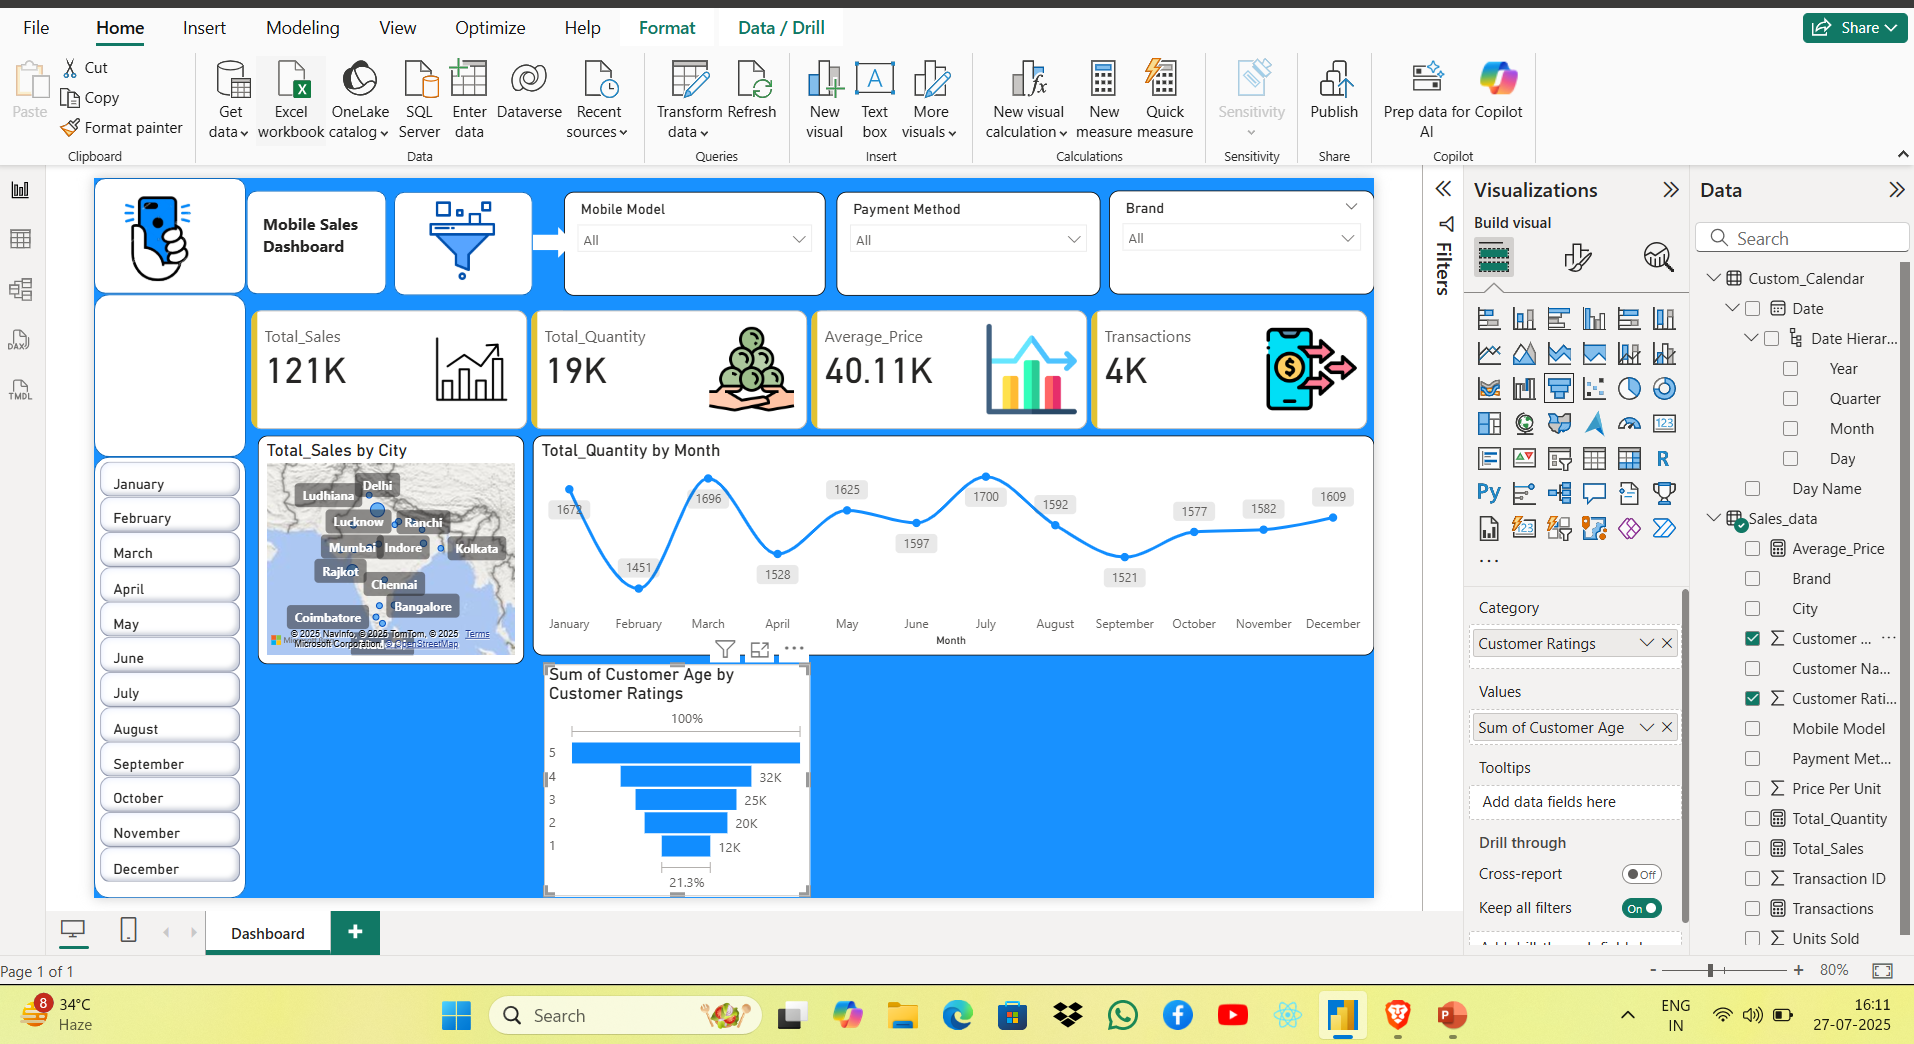

Layout of this report page (visuals, bound fields, positions):
{"tool":"powerbi","page":{"name":"Dashboard","canvas":[1280,720],"ordinal":0},"visuals":[{"type":"shape","box":[0,0,142.4,108.6],"z":0},{"type":"image","box":[0,0,127.9,127.9],"z":1000},{"type":"shape","box":[0,115.8,152,162.9],"z":2000},{"type":"shape","box":[0,278.7,152,441.6],"z":3000},{"type":"advancedSlicerVisual","fields":{"Values":["Custom_Calendar.Date.Variation.Date Hierarchy.Month"]},"box":[1.2,278.7,150.8,441.6],"z":4000},{"type":"cardVisual","fields":{"Data":["Sales_data.Total_Sales","Sales_data.Total_Quantity","Sales_data.Average_Price","Sales_data.Transactions"]},"box":[152,117,1128,107.4],"z":5000},{"type":"slicer","fields":{"Values":["Sales_data.Mobile Model"]},"box":[459.7,1.2,241.3,107.4],"z":6000},{"type":"slicer","fields":{"Values":["Sales_data.Payment Method"]},"box":[716.6,4.8,264.2,103.8],"z":7000},{"type":"slicer","fields":{"Values":["Sales_data.Brand"]},"box":[996.5,8.4,270.2,100.1],"z":8000},{"type":"shape","box":[300.4,0,138.7,108.6],"z":9000},{"type":"image","box":[278.7,8.4,182.2,90.5],"z":10000},{"type":"shape","box":[419.8,49.5,41,31.4],"z":11000},{"type":"shape","box":[152,0,139.9,108.6],"z":12000},{"type":"textbox","box":[164.1,30.2,117,68.8],"z":13000},{"type":"map","fields":{"Category":["Sales_data.City"],"Size":["Sales_data.Total_Sales"]},"box":[164.1,224.4,255.8,250.9],"z":14000},{"type":"lineChart","fields":{"Category":["Custom_Calendar.Date.Variation.Date Hierarchy.Month"],"Y":["Sales_data.Total_Quantity"]},"box":[438.8,225,827.5,150],"z":15000},{"type":"funnel","title":" Ratings by Rating status","fields":{"Y":["Sum(Sales_data.Customer Ratings)"],"Category":["Sales_data.Rating status"]},"box":[440.4,388.5,381.2,126.7],"z":16000},{"type":"pieChart","title":" Transaction ID by Payment Method","fields":{"Y":["CountNonNull(Sales_data.Transaction ID)"],"Category":["Sales_data.Payment Method"]},"box":[834.9,389.7,431.9,126.7],"z":17000},{"type":"clusteredBarChart","fields":{"Y":["Sales_data.Total_Sales"],"Category":["Sales_data.Mobile Model"]},"box":[440.4,532,381.2,174.9],"z":18000},{"type":"areaChart","fields":{"Category":["Sales_data.Mobile Model","Custom_Calendar.Day Name"],"Y":["Sales_data.Total_Sales"]},"box":[834.9,532,431.9,170.1],"z":19000},{"type":"tableEx","fields":{"Values":["Sales_data.Brand","Sales_data.Total_Sales","Sales_data.Transactions"]},"box":[164.1,485,255.8,235.3],"z":20000},{"type":"pageNavigator","box":[6,142.4,136.3,119.4],"z":21000}]}

Visuals, with their boxes on the page's 1280x720 design canvas (x1, y1, x2, y2). These are canvas units, not pixel positions in the 1914x1044 screenshot, which may show the page scaled, cropped or inside an application window:
shape: (x1=0, y1=0, x2=142, y2=109)
image: (x1=0, y1=0, x2=128, y2=128)
shape: (x1=0, y1=116, x2=152, y2=279)
shape: (x1=0, y1=279, x2=152, y2=720)
advancedSlicerVisual - Custom_Calendar.Date.Variation.Date Hierarchy.Month: (x1=1, y1=279, x2=152, y2=720)
cardVisual - Sales_data.Total_Sales x Sales_data.Total_Quantity: (x1=152, y1=117, x2=1280, y2=224)
slicer - Sales_data.Mobile Model: (x1=460, y1=1, x2=701, y2=109)
slicer - Sales_data.Payment Method: (x1=717, y1=5, x2=981, y2=109)
slicer - Sales_data.Brand: (x1=996, y1=8, x2=1267, y2=108)
shape: (x1=300, y1=0, x2=439, y2=109)
image: (x1=279, y1=8, x2=461, y2=99)
shape: (x1=420, y1=50, x2=461, y2=81)
shape: (x1=152, y1=0, x2=292, y2=109)
textbox: (x1=164, y1=30, x2=281, y2=99)
map - Sales_data.City x Sales_data.Total_Sales: (x1=164, y1=224, x2=420, y2=475)
lineChart - Custom_Calendar.Date.Variation.Date Hierarchy.Month x Sales_data.Total_Quantity: (x1=439, y1=225, x2=1266, y2=375)
" Ratings by Rating status" funnel: (x1=440, y1=388, x2=822, y2=515)
" Transaction ID by Payment Method" pieChart: (x1=835, y1=390, x2=1267, y2=516)
clusteredBarChart - Sales_data.Total_Sales x Sales_data.Mobile Model: (x1=440, y1=532, x2=822, y2=707)
areaChart - Sales_data.Mobile Model x Custom_Calendar.Day Name: (x1=835, y1=532, x2=1267, y2=702)
tableEx - Sales_data.Brand x Sales_data.Total_Sales: (x1=164, y1=485, x2=420, y2=720)
pageNavigator: (x1=6, y1=142, x2=142, y2=262)
